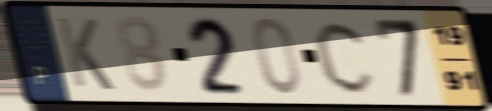0: (249, 16, 304, 98)
2: (185, 11, 255, 100)
7: (371, 15, 423, 100)
8: (114, 12, 173, 97)
C: (311, 17, 379, 96)
K: (53, 14, 118, 94)
